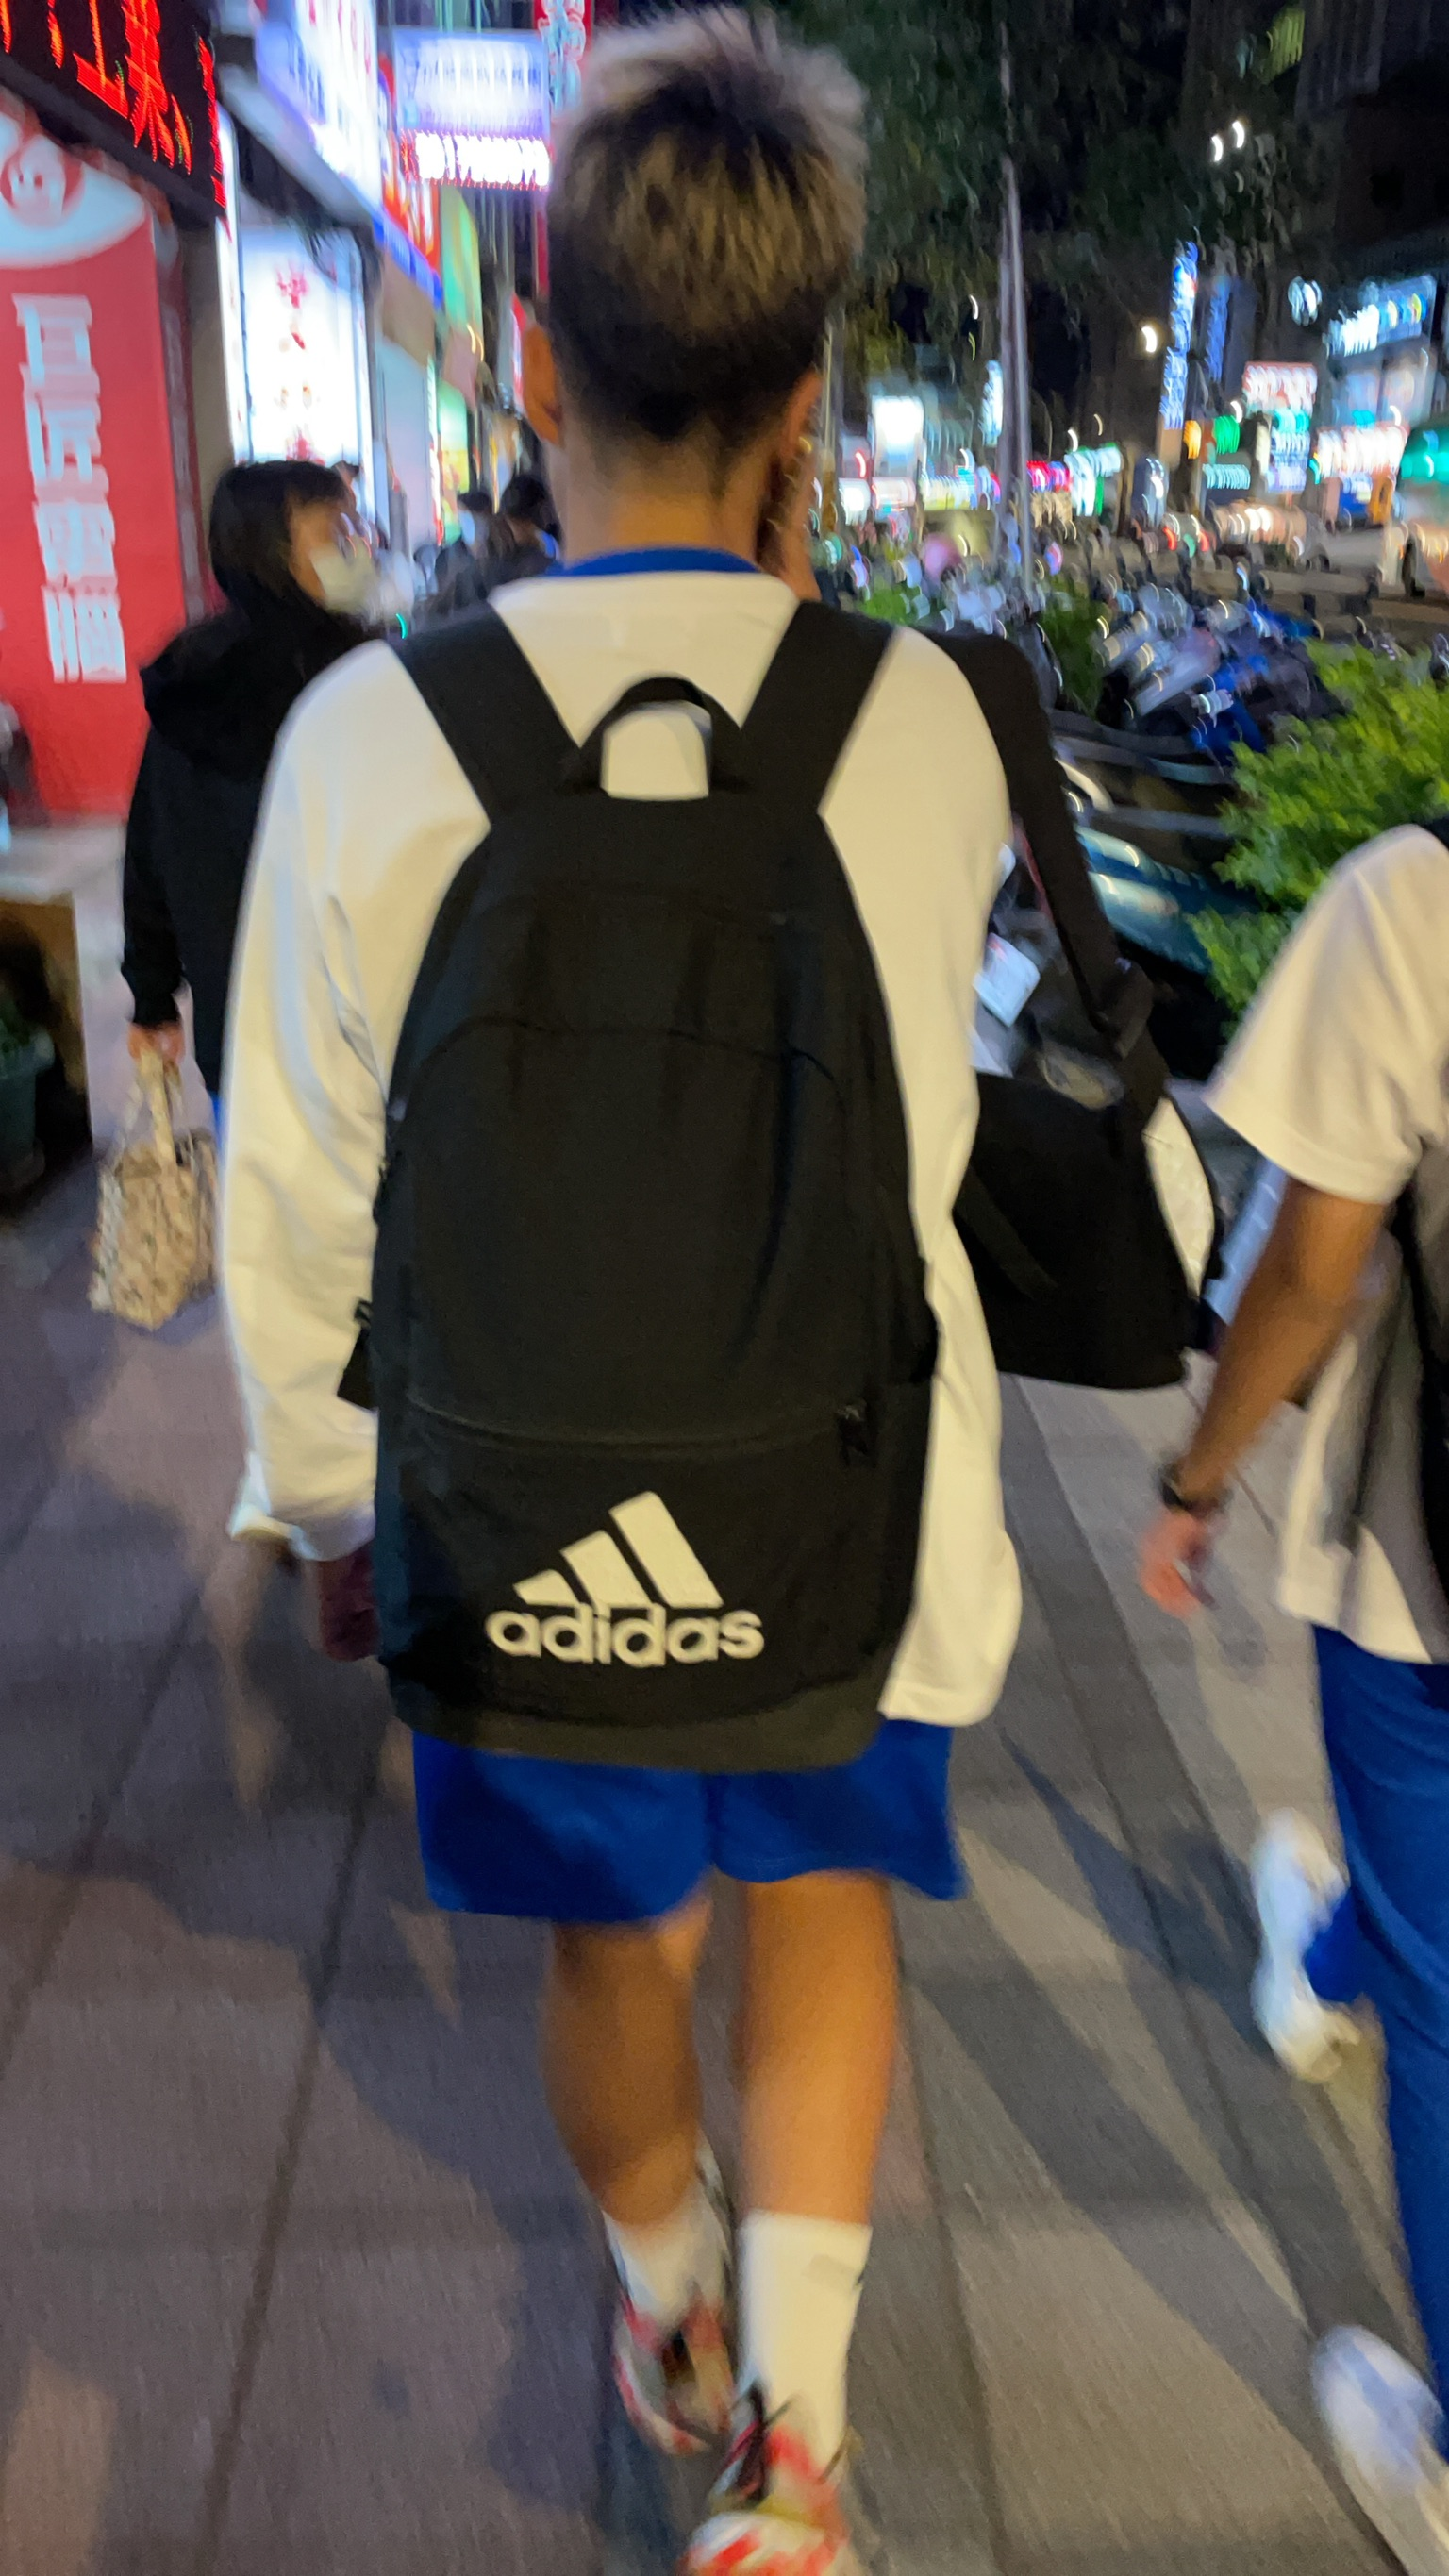people: (213, 39, 1030, 2569), (1132, 806, 1449, 2576), (127, 460, 398, 1208)
